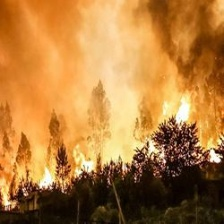fire: (1, 97, 224, 211)
smoke: (144, 1, 224, 86)
